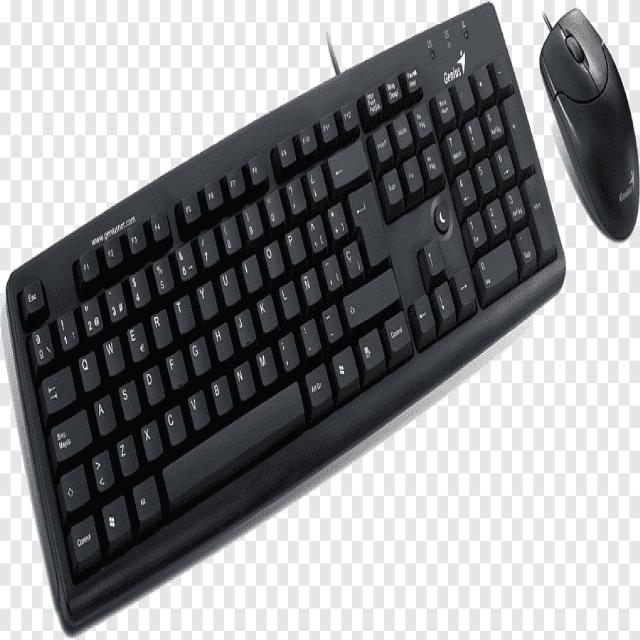keyboard: (4, 3, 563, 640)
mouse: (543, 3, 640, 256)
